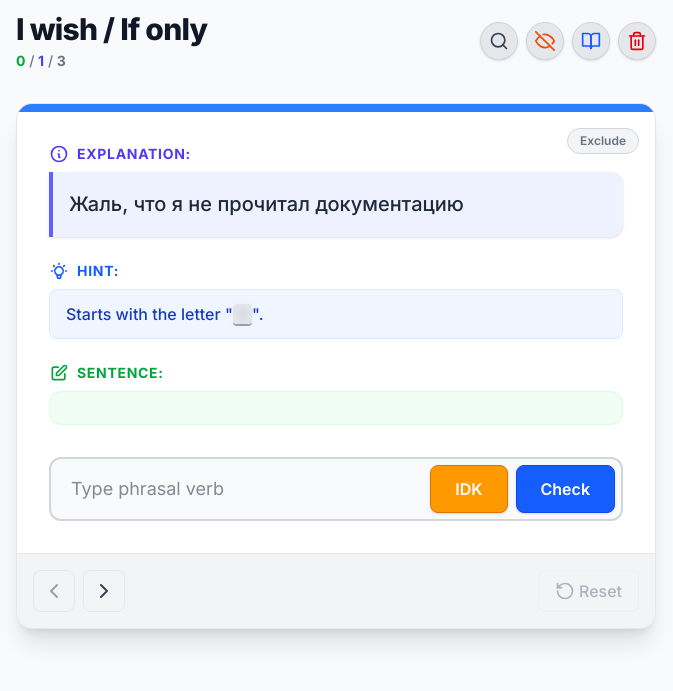
Scenario: IWishPage — answer checking › marks correct when answer matches ignoring punctuation
In the field with placeholder "Type phrasal verb": (336, 488) [49,456,623,520], type "I wish I had read the documentation."
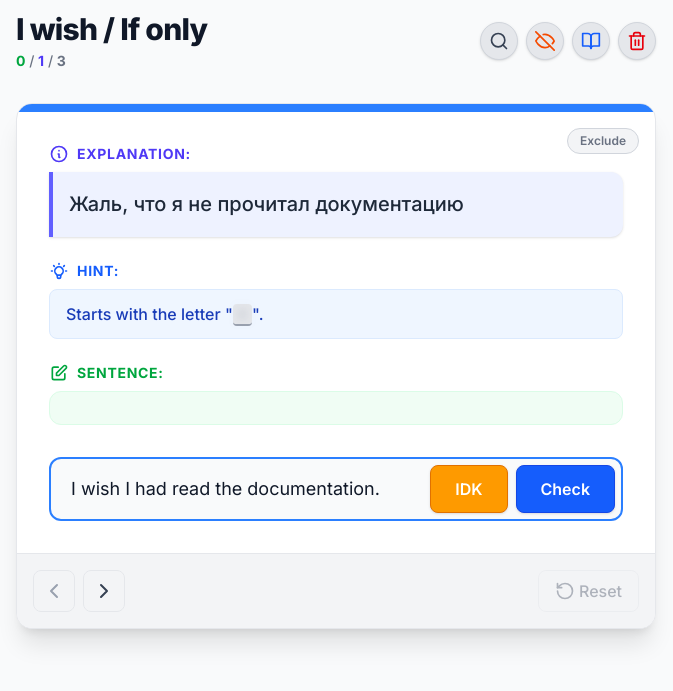
Click the button "Check": click(565, 488) [516,464,615,512]
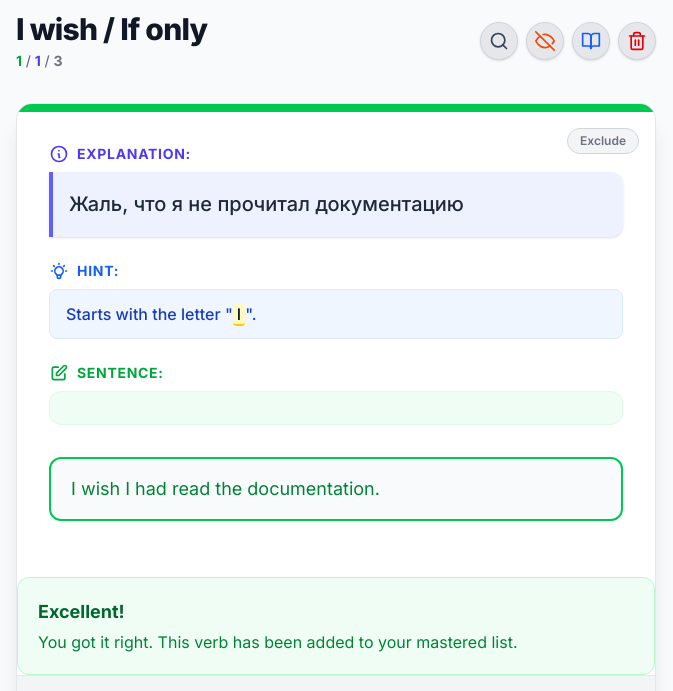
Expected: the heading "Excellent!" is shown, [38,600,125,622]
